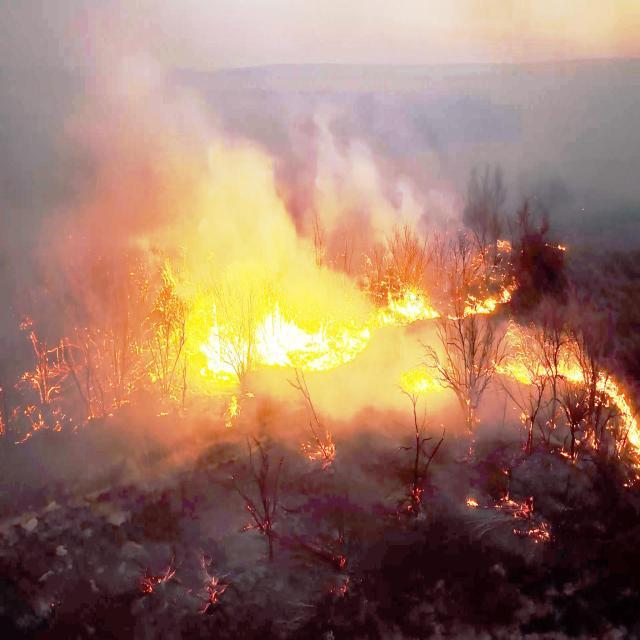Fire: (188, 307, 310, 387), (296, 296, 374, 388), (494, 340, 606, 397), (378, 278, 436, 340)
Smoke: (0, 0, 298, 271)
